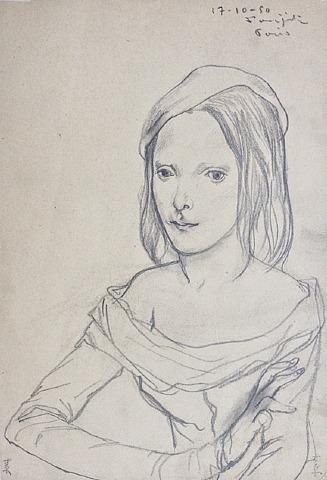person: (2, 62, 325, 480)
